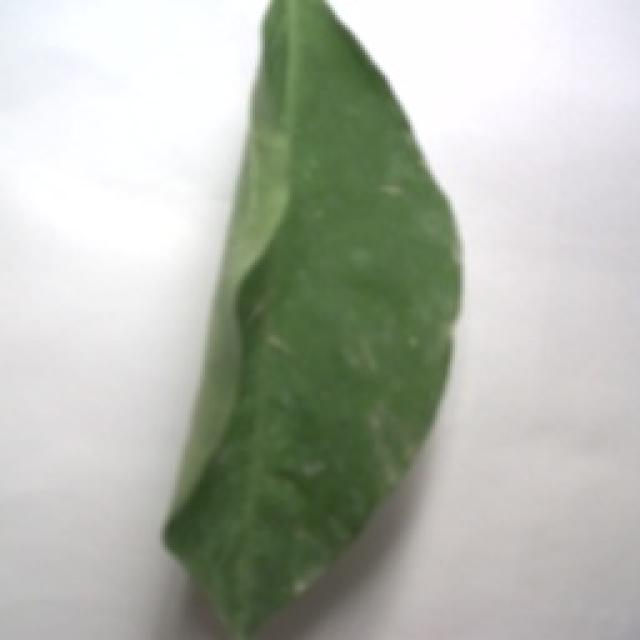Leaf: (159, 2, 464, 640)
